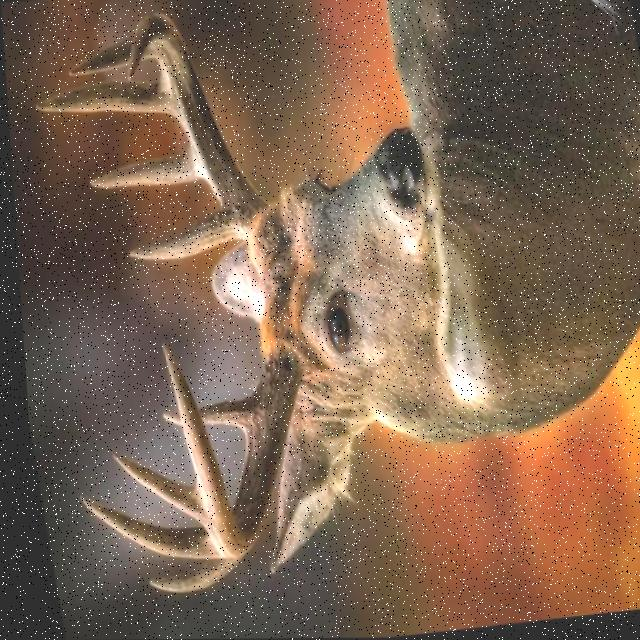L-F: (124, 12, 263, 240)
L-G1: (122, 206, 239, 261)
L-G2: (86, 144, 204, 190)
L-G3: (30, 73, 177, 120)
R-F: (156, 343, 292, 560)
R-G3: (71, 493, 213, 561)
R-G4: (104, 452, 194, 526)
